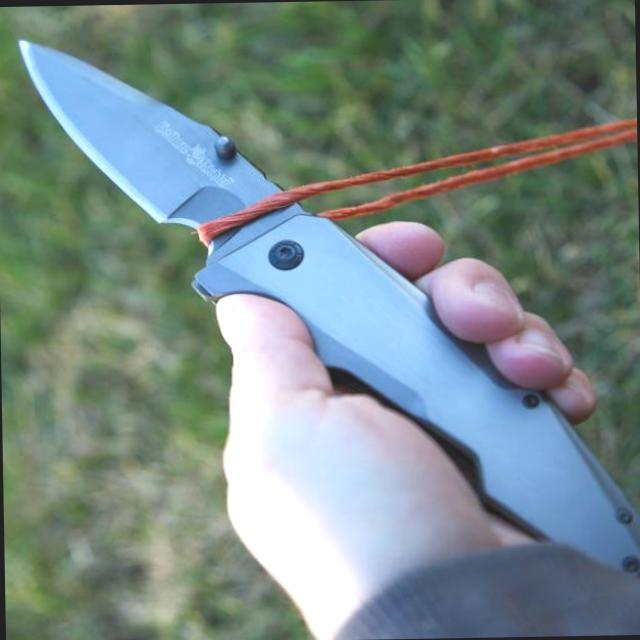knife: (9, 23, 304, 354)
